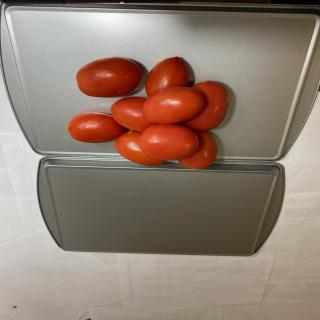Chilli: (68, 55, 230, 170)
Tomato: (76, 56, 142, 98), (182, 80, 230, 131), (142, 86, 204, 124), (139, 124, 199, 160), (114, 130, 167, 166), (145, 56, 189, 97), (68, 112, 124, 143), (110, 96, 156, 132), (177, 130, 218, 170)
